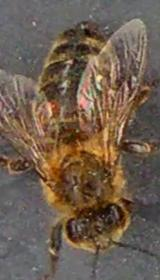varroa_mite: (38, 90, 63, 124)
